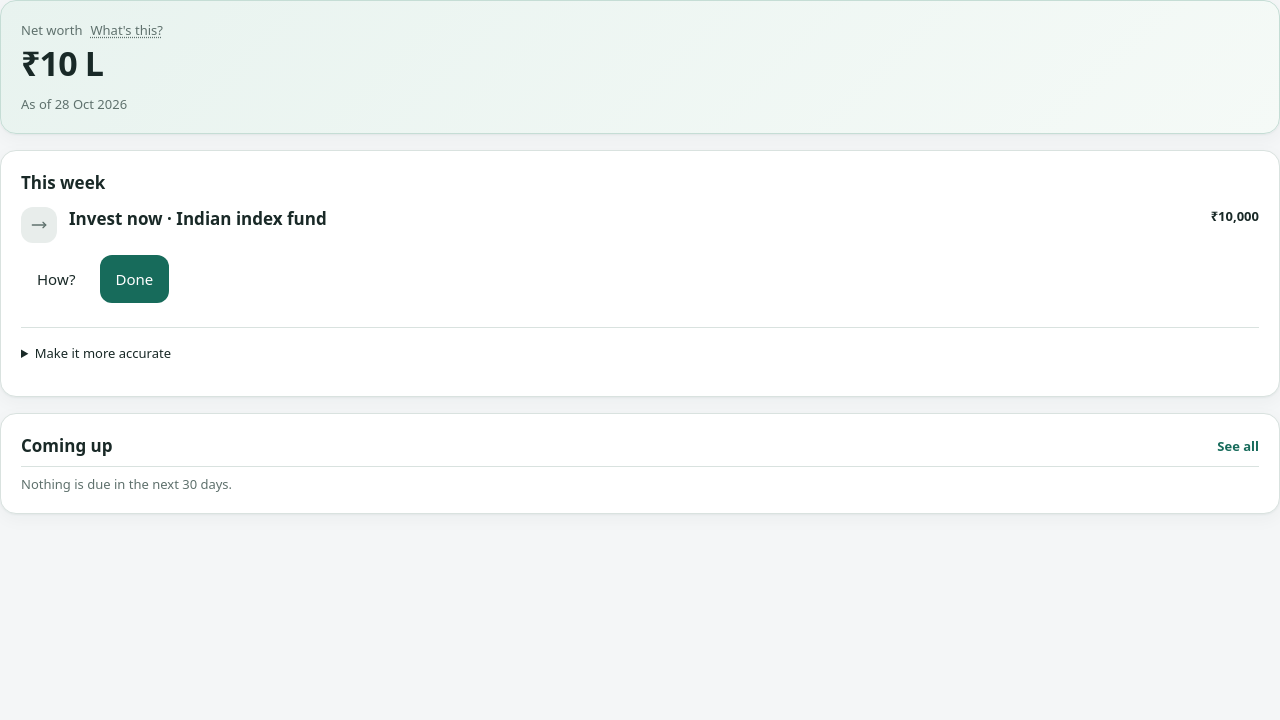
Home this week › explains the reason and action parameters inside How
This screenshot has width=1280, height=720.
Click the button with aria-label "How to" at (56, 279), box [21, 255, 92, 303]
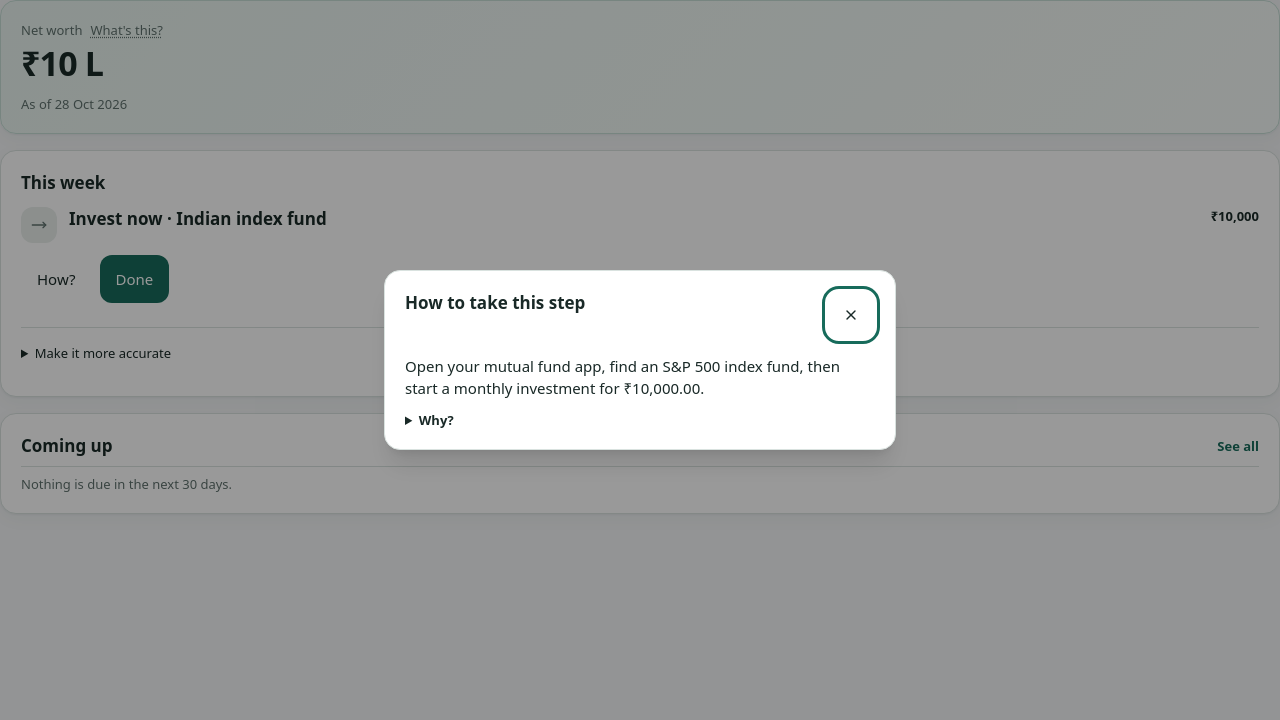
Click the heading "Why?" at (436, 420), box [419, 411, 454, 429]
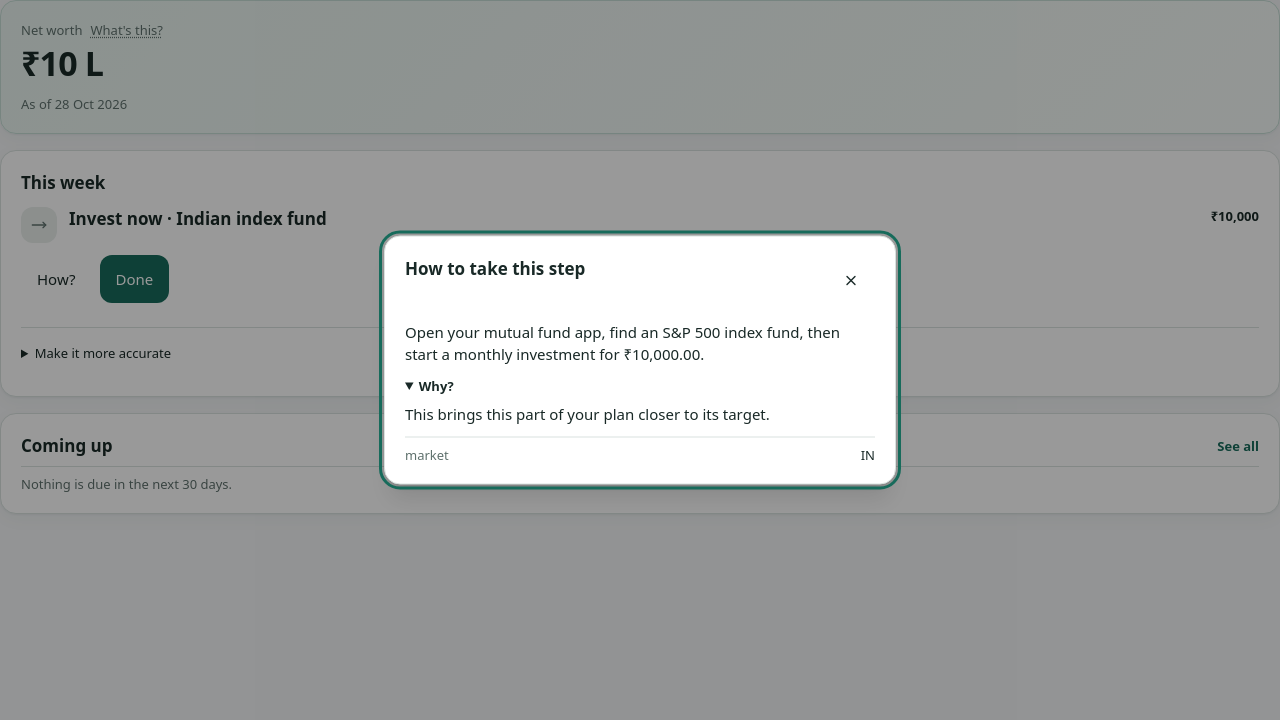
expect the dialog "How to take this step" shows "This brings this part of your plan closer to its target.": met, box [405, 404, 770, 424]
expect the text "market" is shown: met, box [405, 446, 449, 464]
